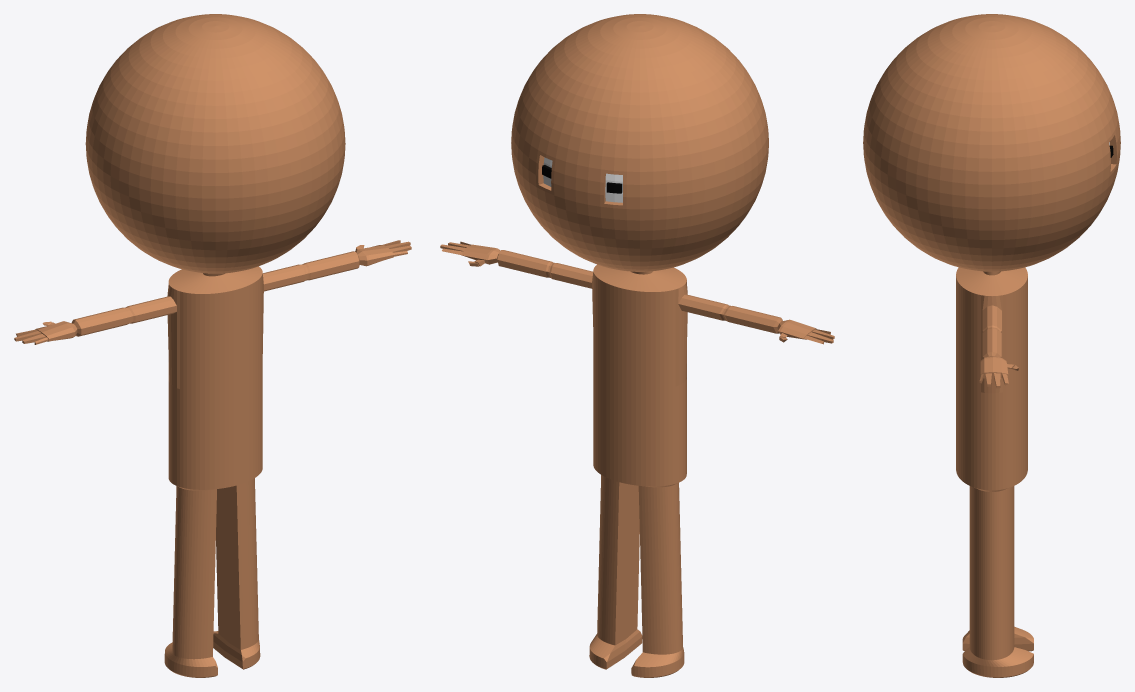
File: deneme2.obj
The picture shows the model from 3 angles, left to right: view 1: azimuth 30°, elevation 25°; view 2: azimuth 150°, elevation 25°; view 3: azimuth 270°, elevation 25°; orthographic projection.
Visible parts, largest first — view 1: Sphere; view 2: Sphere; view 3: Sphere.
Boxes of the visible parts, <box> form: Sphere: <box>14,14,411,677</box>; Sphere: <box>440,14,834,677</box>; Sphere: <box>863,14,1120,677</box>.
Bounding box in the file's own units: 3.51 × 5.41 × 2.
